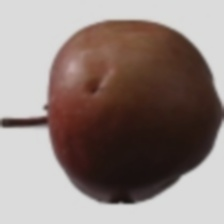apple: (31, 12, 219, 171)
